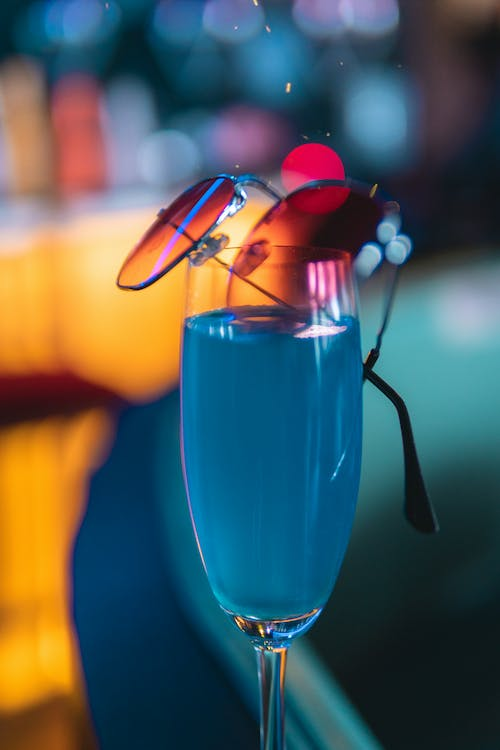alcohol: (178, 242, 365, 750)
